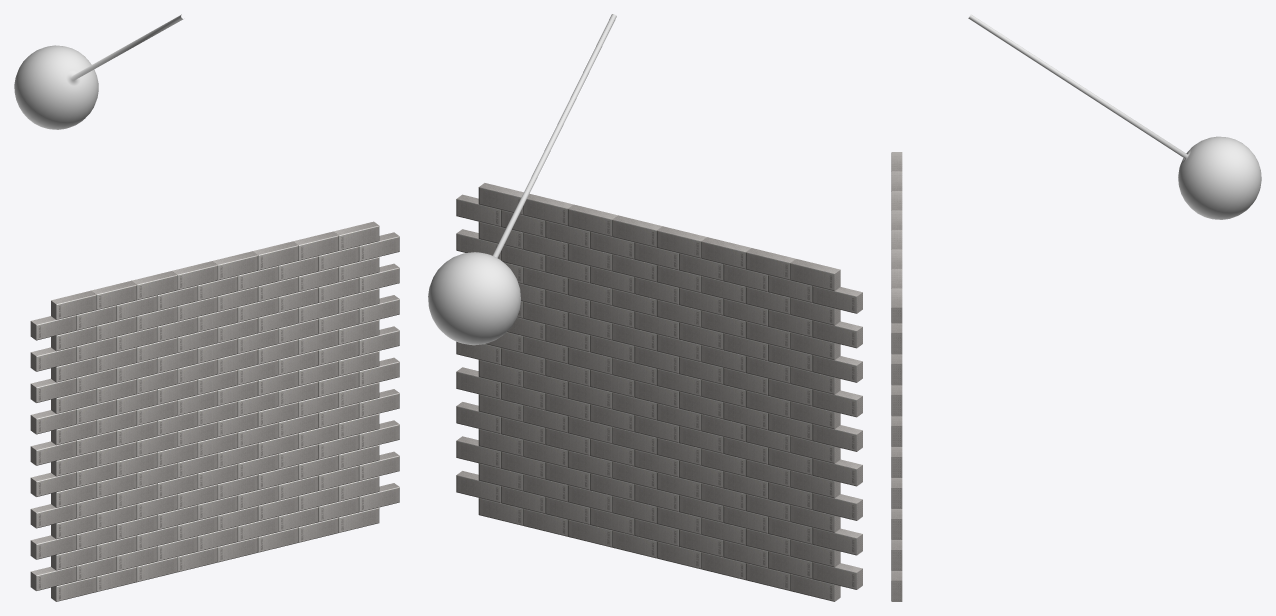
Rendered from Wall.glb.
3 renders of one model, left to right at view 1: azimuth 30°, elevation 25°; view 2: azimuth 150°, elevation 25°; view 3: azimuth 270°, elevation 25°, orthographic. The views are drawn at different scales.
Visible parts, largest first — view 1: Sphere.001, BrickFace.748, BrickFace.752, BrickFace.751, BrickFace.749, BrickFace.753, BrickFace.754, BrickFace.750, BrickFace.755, BrickFace.628, BrickFace.664, BrickFace.616 (+150 smaller); view 2: Sphere.001, BrickFace.748, BrickFace.749, BrickFace.751, BrickFace.753, BrickFace.750, BrickFace.752, BrickFace.628, BrickFace.676, BrickFace.652, BrickFace.700, BrickFace.616 (+144 smaller); view 3: Sphere.001.
Boxes of the visible parts, x1=… form: Sphere.001: x1=14, y1=14, x2=183, y2=129; BrickFace.748: x1=51, y1=290, x2=96, y2=319; BrickFace.752: x1=213, y1=251, x2=258, y2=280; BrickFace.751: x1=172, y1=261, x2=217, y2=290; BrickFace.749: x1=91, y1=280, x2=136, y2=309; BrickFace.753: x1=253, y1=241, x2=298, y2=270; BrickFace.754: x1=293, y1=231, x2=338, y2=260; BrickFace.750: x1=132, y1=271, x2=177, y2=300; BrickFace.755: x1=334, y1=221, x2=379, y2=250; BrickFace.628: x1=30, y1=346, x2=76, y2=371; BrickFace.664: x1=30, y1=440, x2=76, y2=465; BrickFace.616: x1=30, y1=315, x2=76, y2=340; Sphere.001: x1=428, y1=14, x2=616, y2=345; BrickFace.748: x1=790, y1=259, x2=840, y2=291; BrickFace.749: x1=745, y1=248, x2=795, y2=280; BrickFace.751: x1=656, y1=226, x2=706, y2=258; BrickFace.753: x1=567, y1=204, x2=617, y2=236; BrickFace.750: x1=701, y1=237, x2=750, y2=269; BrickFace.752: x1=612, y1=215, x2=662, y2=247; BrickFace.628: x1=812, y1=320, x2=862, y2=348; BrickFace.676: x1=812, y1=458, x2=862, y2=486; BrickFace.652: x1=812, y1=389, x2=862, y2=417; BrickFace.700: x1=812, y1=527, x2=862, y2=555; BrickFace.616: x1=812, y1=286, x2=862, y2=313; Sphere.001: x1=968, y1=14, x2=1261, y2=219.
Size of the model in its own units: 7.59 by 10.35 by 6.78.
Materials: 1 (1 with a texture image).
